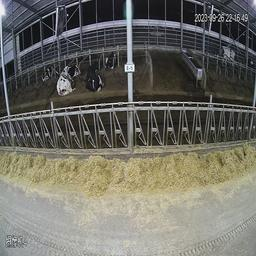cow: (56, 65, 81, 97), (85, 61, 103, 92), (41, 63, 56, 82), (104, 51, 116, 70)
